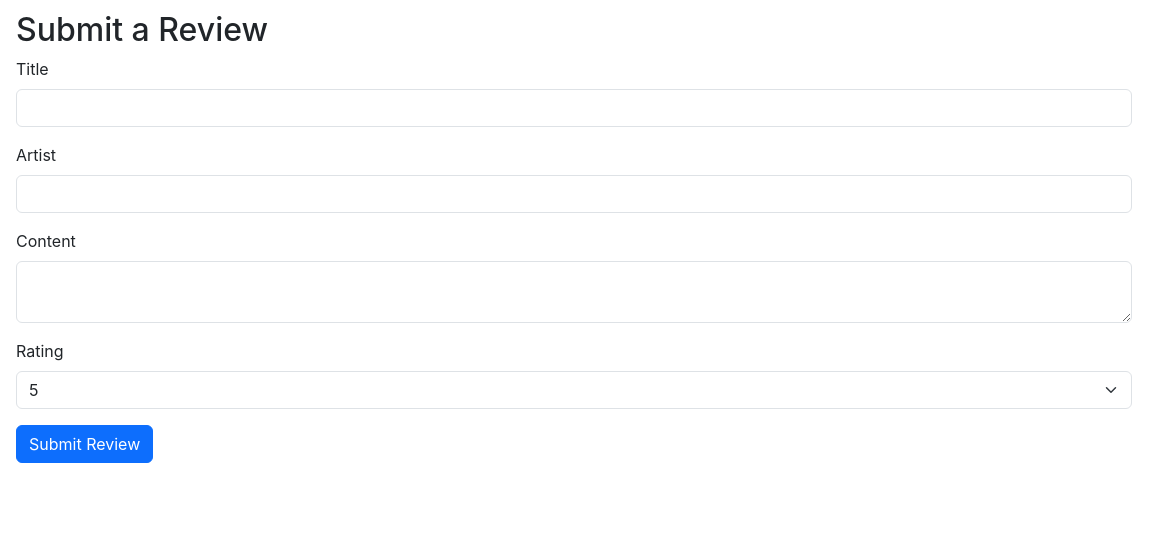
unit: shows error when createReviewUC throws
Type "Great album" into the field labelled "Title" at (574, 108), box top-left (16, 89), bottom-right (1132, 127)
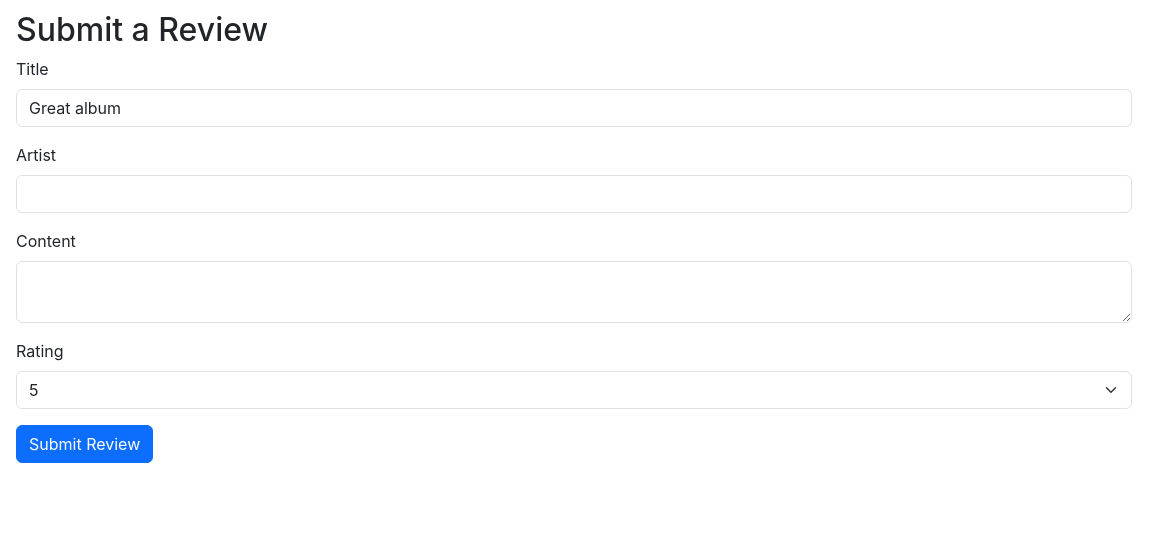
Type "Radiohead" into the field labelled "Artist" at (574, 194), box top-left (16, 175), bottom-right (1132, 213)
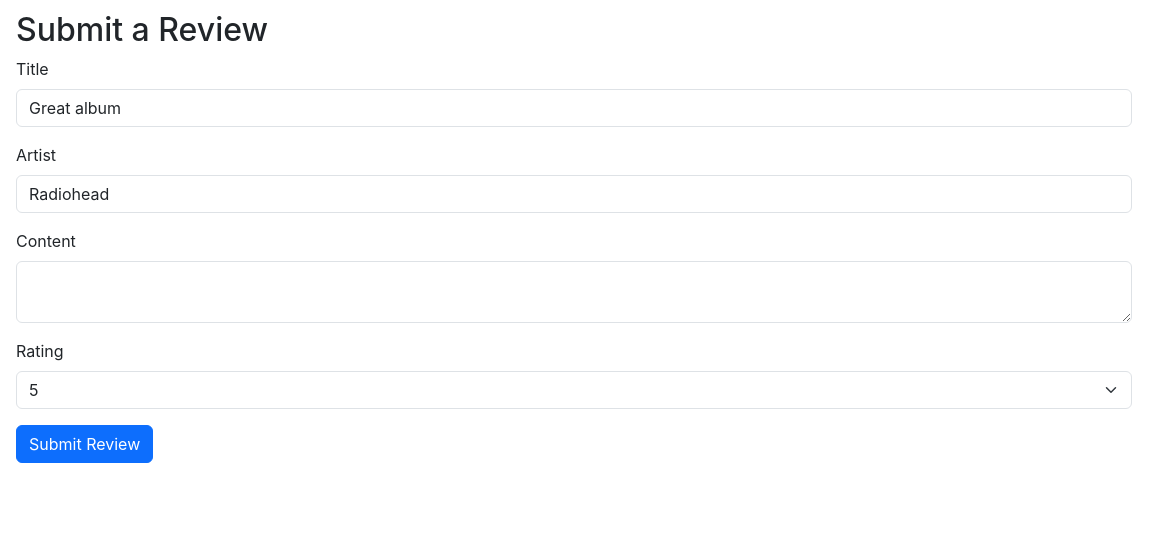
Type "Loved it" into the text box labelled "Content" at (574, 292), box top-left (16, 261), bottom-right (1132, 323)
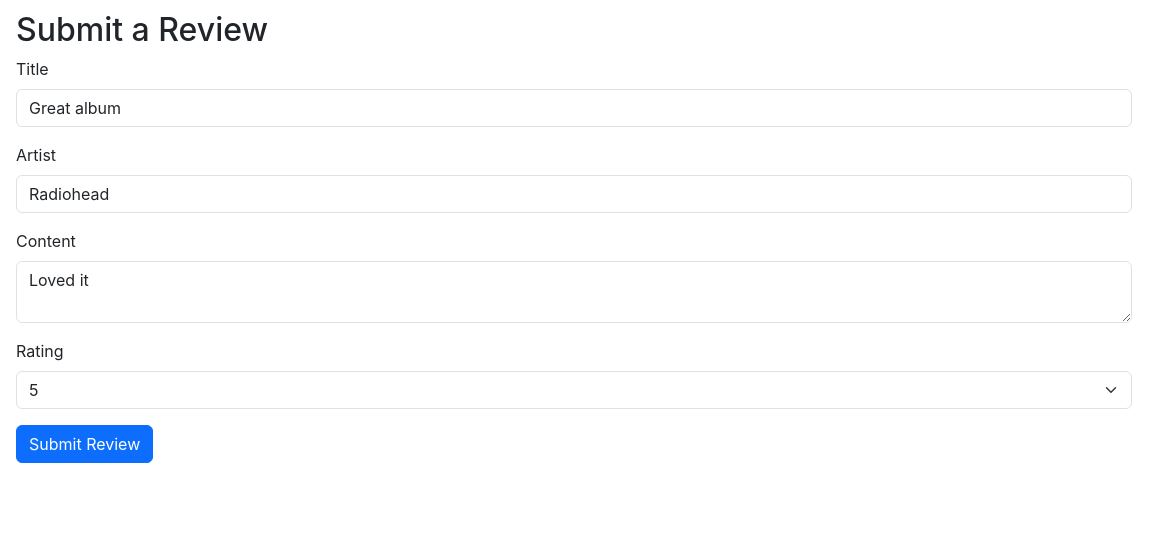
Click the button "Submit Review" at (85, 444), box top-left (16, 425), bottom-right (153, 463)
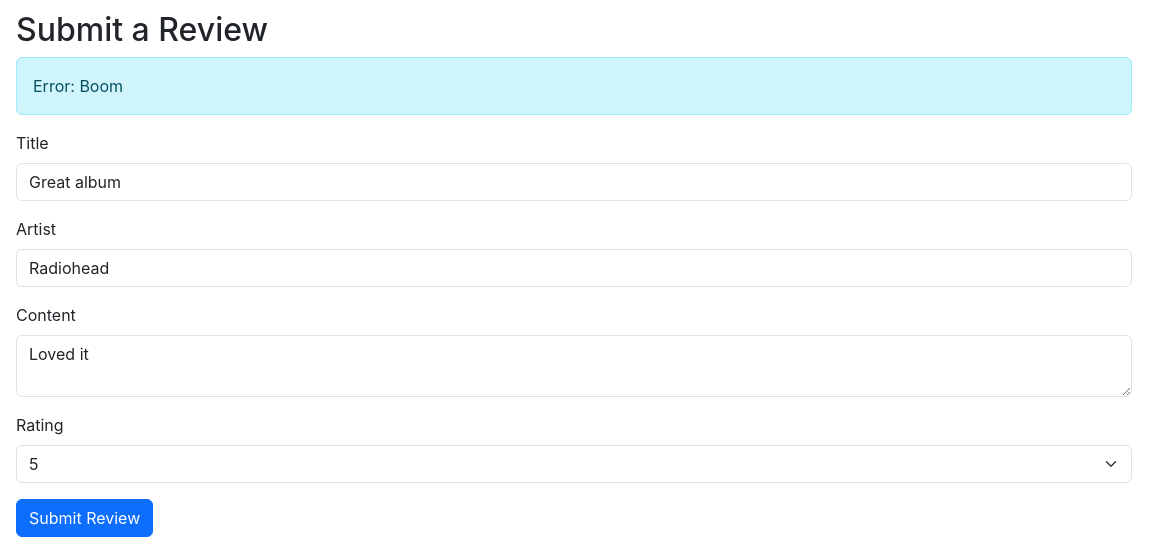
Expected: the text "Error: Boom" is shown, top-left (16, 57), bottom-right (1132, 115)
